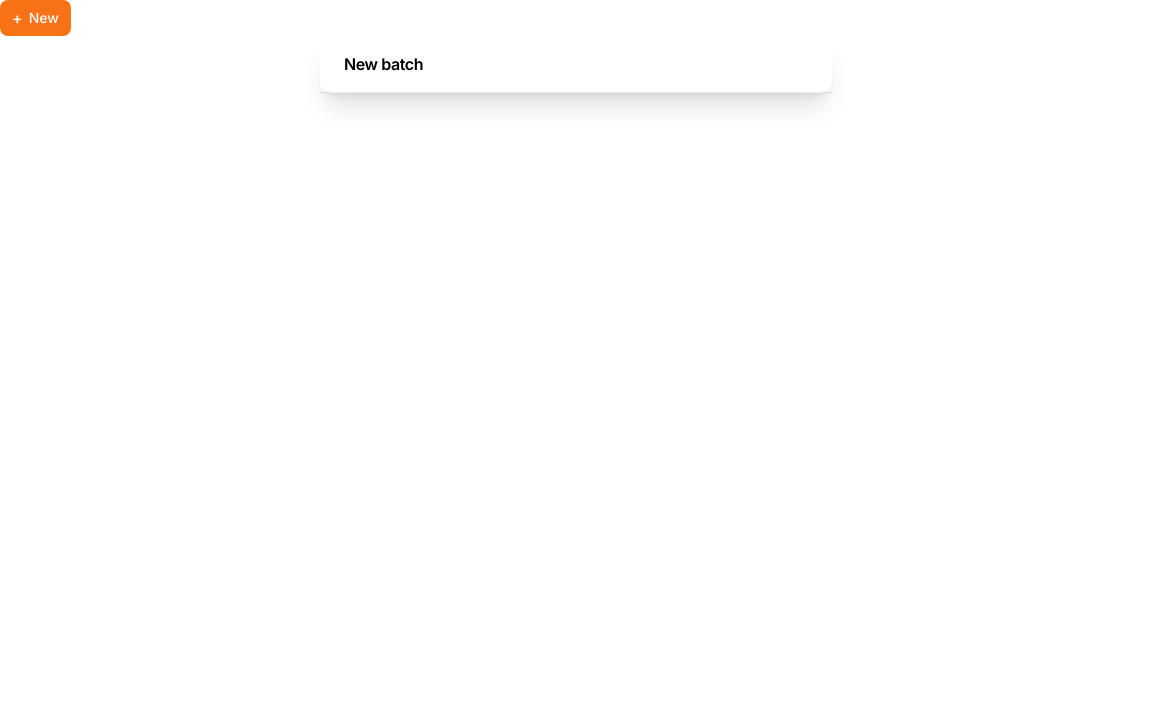
Test case: NewBatchDialog › opens the dialog when '+ New' is clicked
The width and height of the screenshot is (1152, 720).
Click the button "+ New" at (35, 18), box x1=0 y1=0 x2=71 y2=36
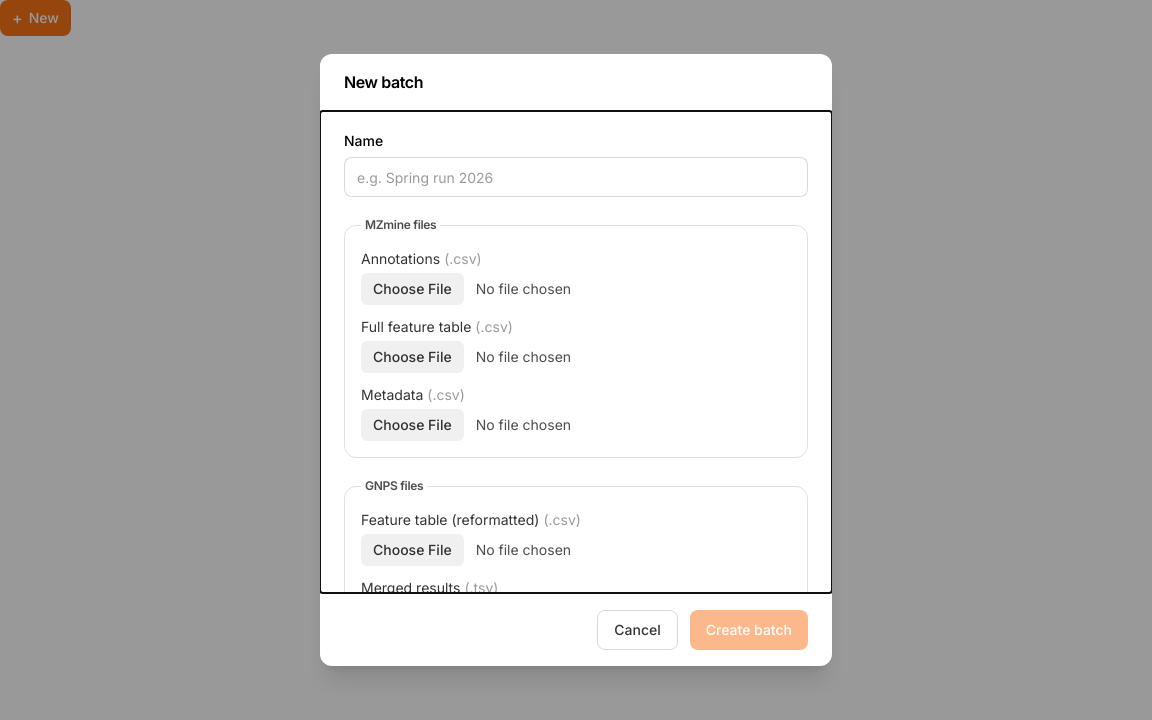
Expected: the heading "New batch" is shown, x1=344 y1=70 x2=423 y2=94
Expected: the dialog has attribute open, x1=320 y1=54 x2=832 y2=666
